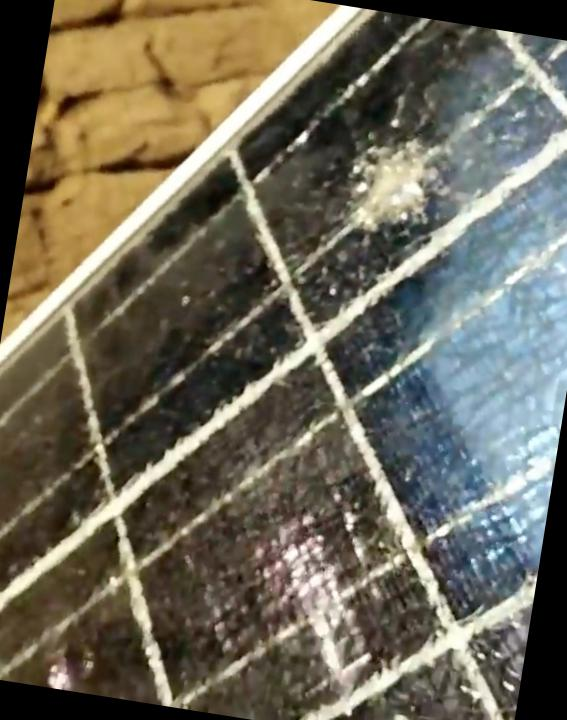Crack: (314, 115, 468, 272)
